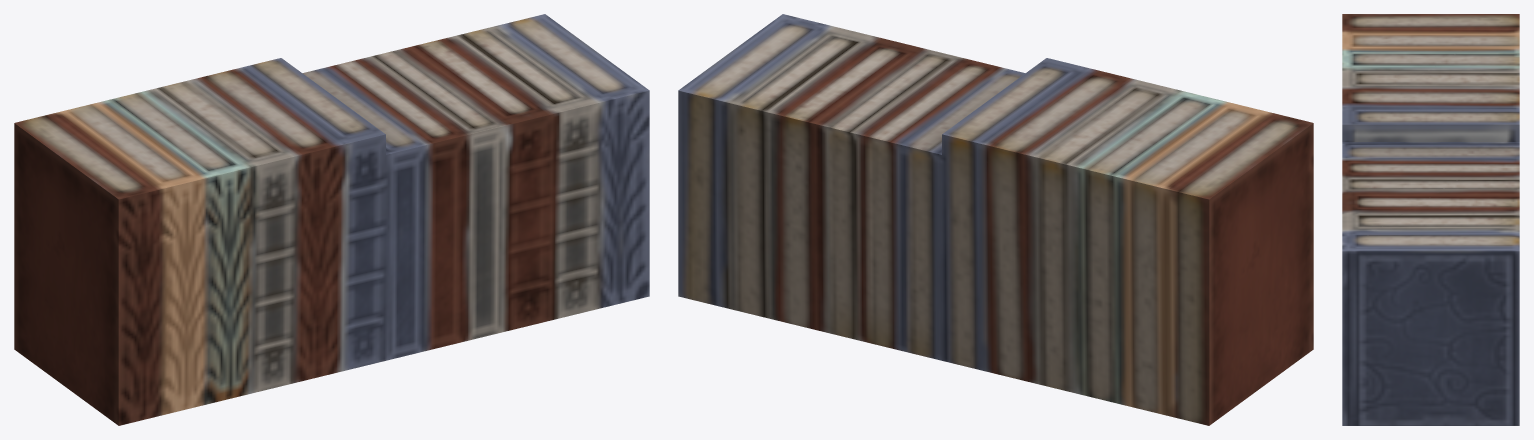
Rendered from SM_Bookpile_A.fbx.
3 renders of one model, left to right at view 1: azimuth 30°, elevation 25°; view 2: azimuth 150°, elevation 25°; view 3: azimuth 270°, elevation 25°, orthographic. The views are drawn at different scales.
Visible parts, largest first — view 1: SM_Bookpile_A; view 2: SM_Bookpile_A; view 3: SM_Bookpile_A.
Part boxes in pixels (x1,y1,x2,y2): SM_Bookpile_A: [14, 14, 649, 425]; SM_Bookpile_A: [678, 14, 1313, 425]; SM_Bookpile_A: [1342, 14, 1519, 425].
Size of the model in its own units: 62.31 by 21.26 by 25.39.
1 material, 1 textured.
